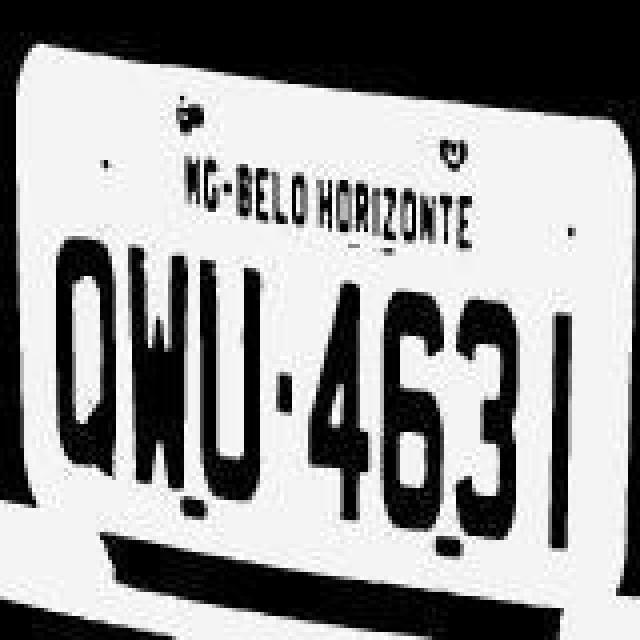1: (544, 298, 600, 566)
3: (458, 288, 534, 552)
4: (308, 260, 380, 540)
6: (376, 274, 456, 542)
Q: (40, 230, 128, 498)
U: (192, 238, 272, 514)
W: (124, 232, 196, 504)
